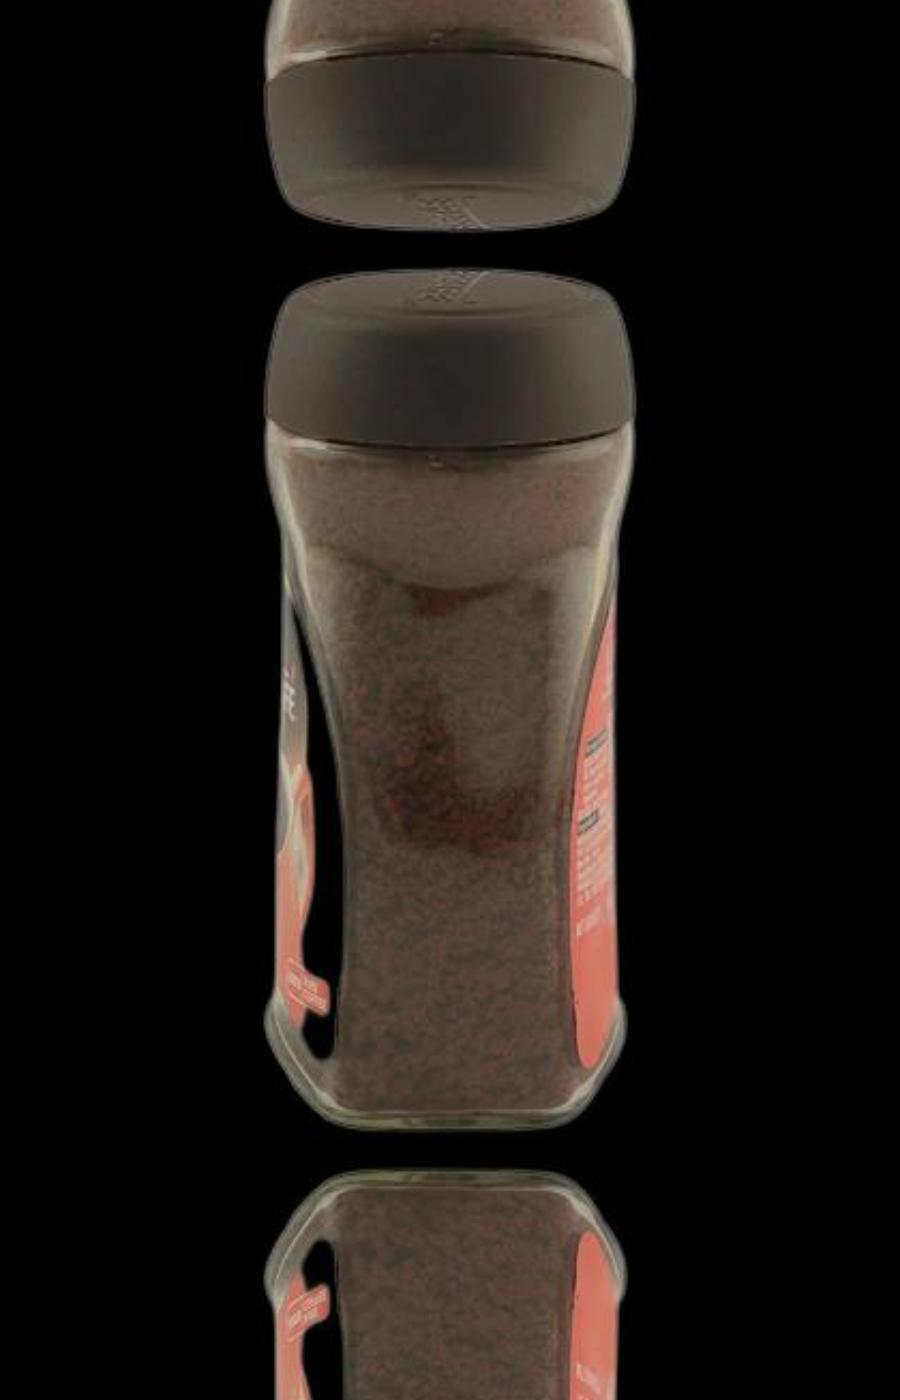Nescafe Classic Instant Coffee 90 g: (252, 266, 660, 1126), (252, 0, 660, 234), (252, 1174, 660, 1400)
